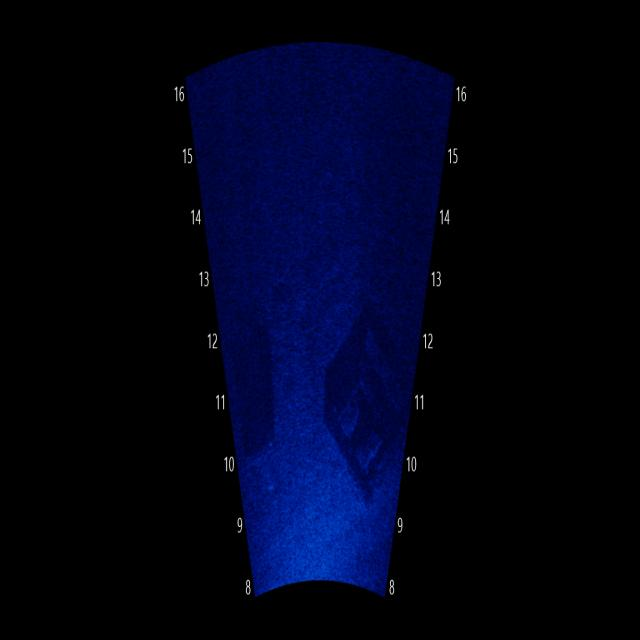square: (304, 296, 418, 504), (228, 310, 284, 474)
